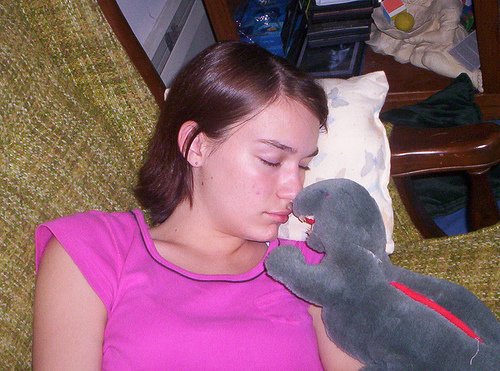without_mask: (183, 81, 321, 246)
